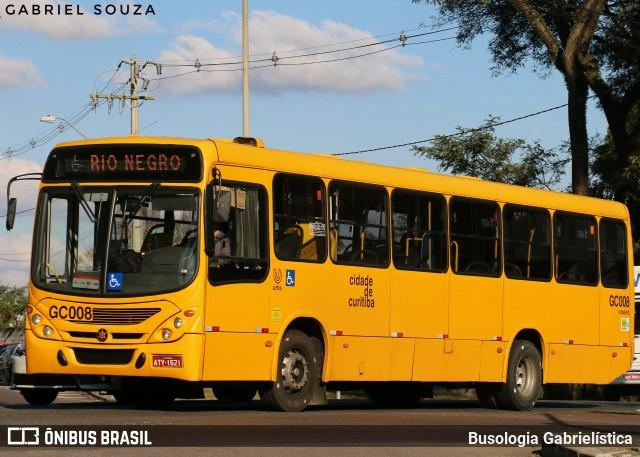RIO NEGRO: (85, 150, 185, 175)
